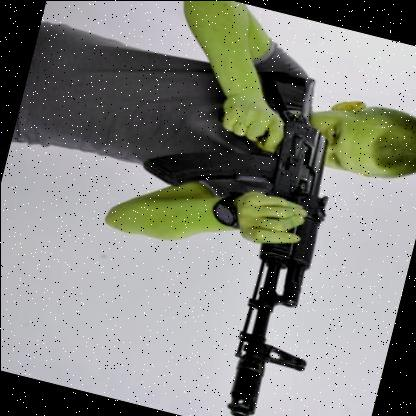rifle: (106, 48, 363, 416)
